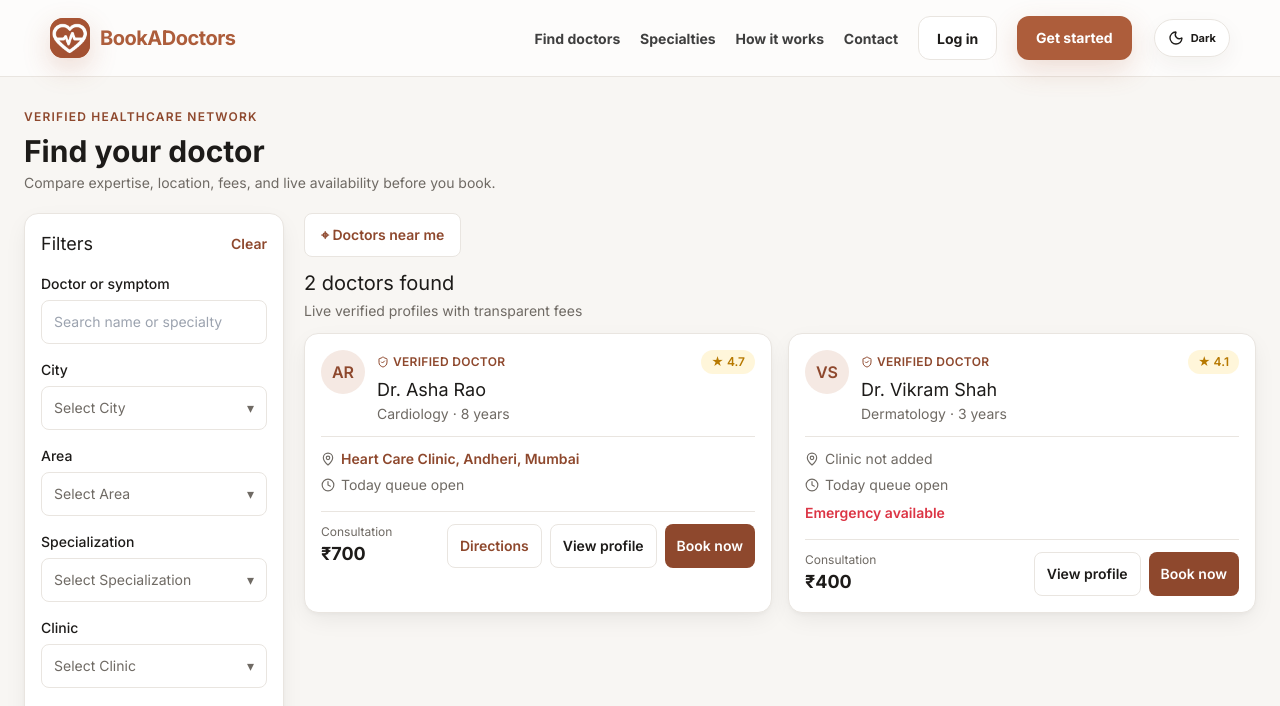
Test: SearchResults › shows an empty state when no doctor matches the filters
Type "nobody-matches-this" into the field labelled "Doctor or symptom" at [154, 322], box [41,300,267,344]
(page scrolled)
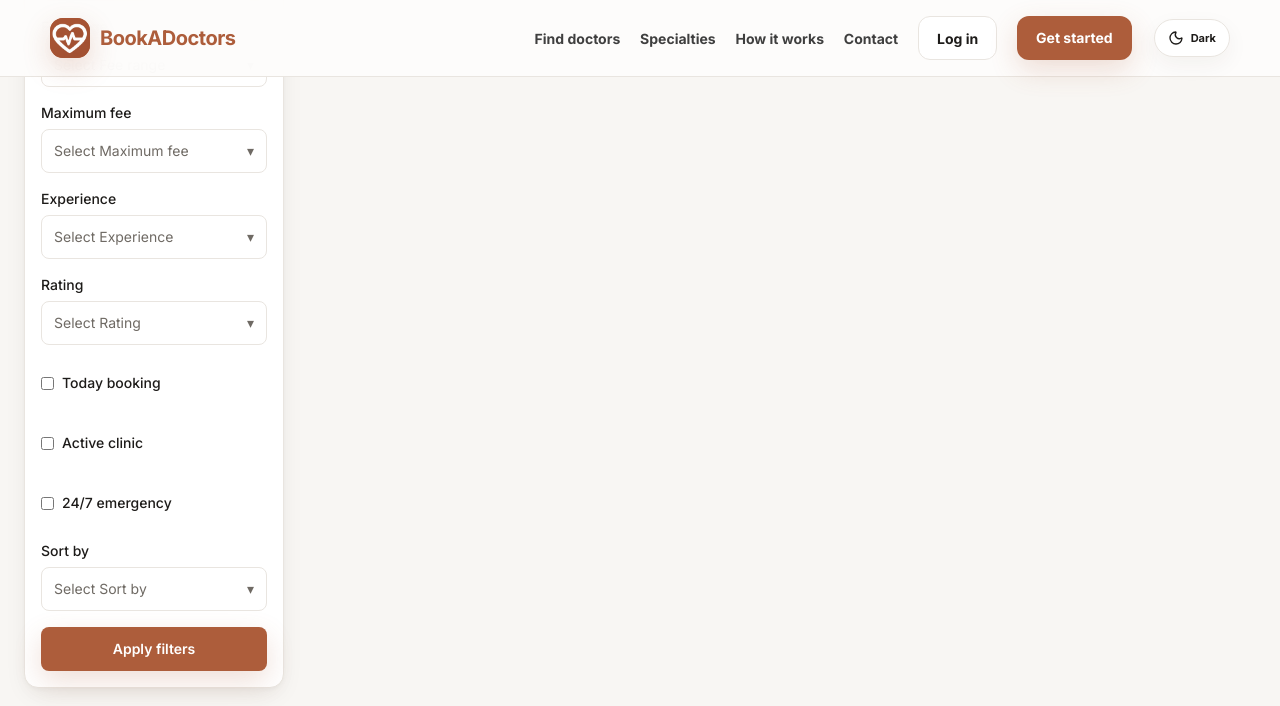
Click the button "Apply filters" at [154, 649], box [41,627,267,671]
(page scrolled)
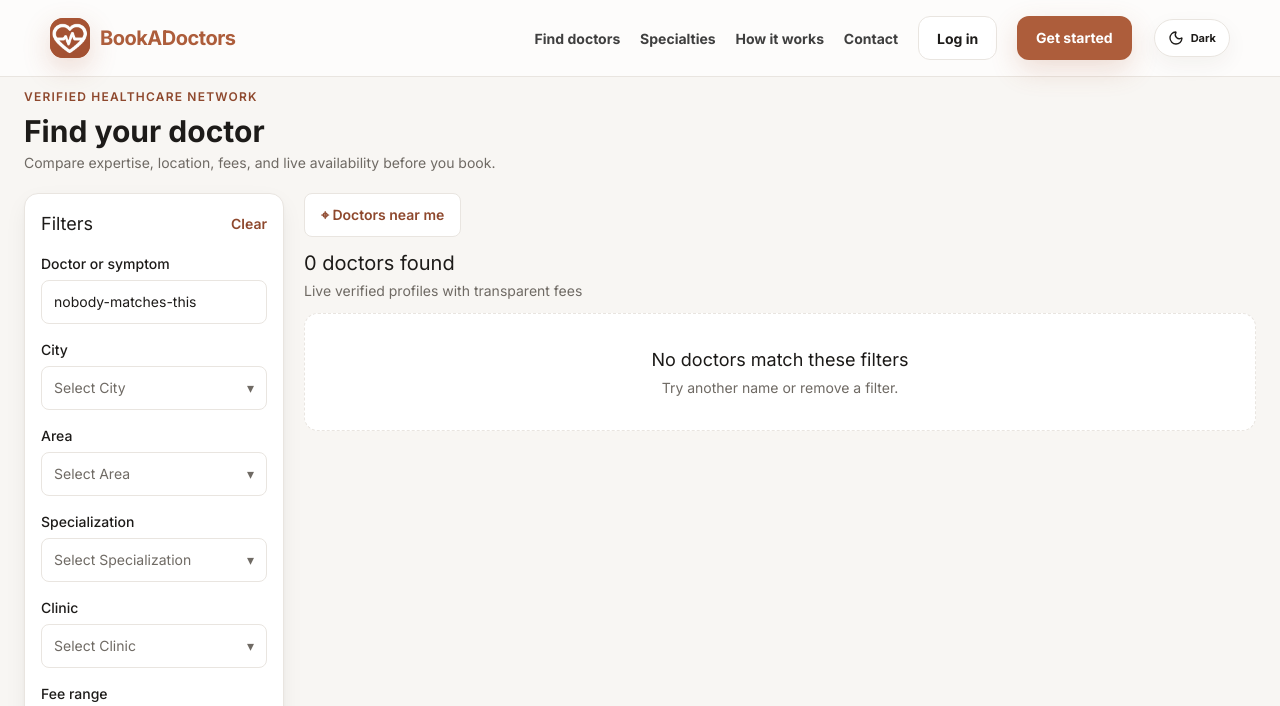
expect the text "No doctors match these filters" is shown: met, box [651,349,909,370]
